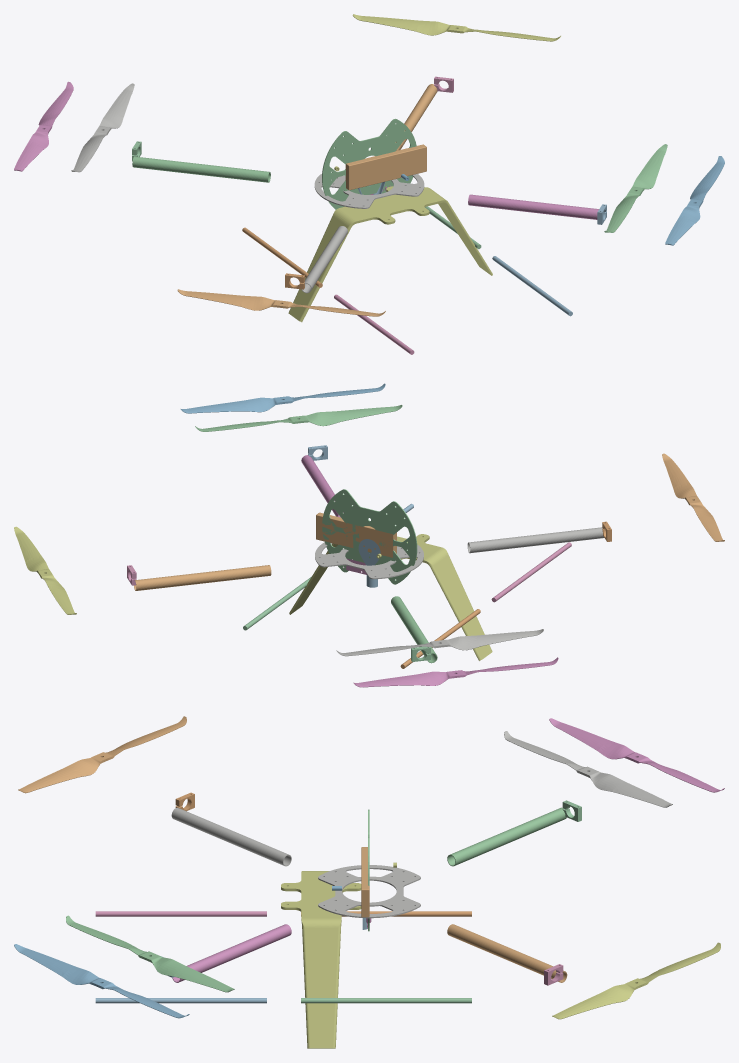
Rendered from case-05_claude48.glb.
The picture shows the model from 3 angles, top to bottom: view 1: azimuth 30°, elevation 25°; view 2: azimuth 150°, elevation 25°; view 3: azimuth 270°, elevation 25°; orthographic projection. The views are drawn at different scales.
Parts seen in each view (by area): view 1: c00001, c00024, c00023, c00004, c00002, c00013, c00011, c00025, c00014, c00015, c00012, c00010 (+2 smaller); view 2: c00024, c00001, c00023, c00003, c00005, c00015, c00014, c00012, c00010, c00025, c00011, c00013 (+4 smaller); view 3: c00001, c00025, c00012, c00010, c00014, c00015, c00013, c00011, c00005, c00004, c00003, c00002 (+5 smaller).
Boxes of the visible parts, bbox=[...] form: c00001: bbox=[288, 186, 492, 322]; c00024: bbox=[322, 118, 416, 209]; c00023: bbox=[345, 144, 426, 190]; c00004: bbox=[132, 156, 270, 182]; c00002: bbox=[468, 194, 598, 219]; c00013: bbox=[177, 289, 385, 316]; c00011: bbox=[352, 14, 560, 41]; c00025: bbox=[314, 173, 424, 208]; c00014: bbox=[604, 144, 667, 232]; c00015: bbox=[71, 83, 134, 172]; c00012: bbox=[14, 81, 73, 171]; c00010: bbox=[665, 156, 724, 245]; c00024: bbox=[322, 489, 417, 584]; c00001: bbox=[289, 534, 492, 660]; c00023: bbox=[316, 512, 396, 557]; c00003: bbox=[134, 565, 271, 590]; c00005: bbox=[467, 527, 604, 553]; c00015: bbox=[336, 629, 543, 656]; c00014: bbox=[195, 405, 402, 431]; c00012: bbox=[353, 657, 558, 687]; c00010: bbox=[180, 383, 385, 413]; c00025: bbox=[315, 542, 423, 579]; c00011: bbox=[14, 526, 76, 614]; c00013: bbox=[662, 453, 724, 541]; c00001: bbox=[281, 871, 361, 1048]; c00025: bbox=[318, 865, 420, 918]; c00012: bbox=[549, 718, 724, 792]; c00010: bbox=[14, 944, 189, 1018]; c00014: bbox=[66, 915, 234, 992]; c00015: bbox=[504, 731, 672, 807]; c00013: bbox=[18, 716, 186, 793]; c00011: bbox=[552, 942, 720, 1019]; c00005: bbox=[171, 807, 291, 866]; c00004: bbox=[447, 807, 566, 866]; c00003: bbox=[447, 924, 567, 982]; c00002: bbox=[172, 924, 291, 982].
Size of the model in its own units: 1039 by 279 by 1039.
